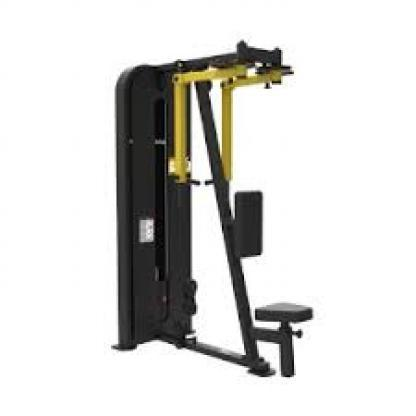chest fly machine: (103, 34, 336, 386)
